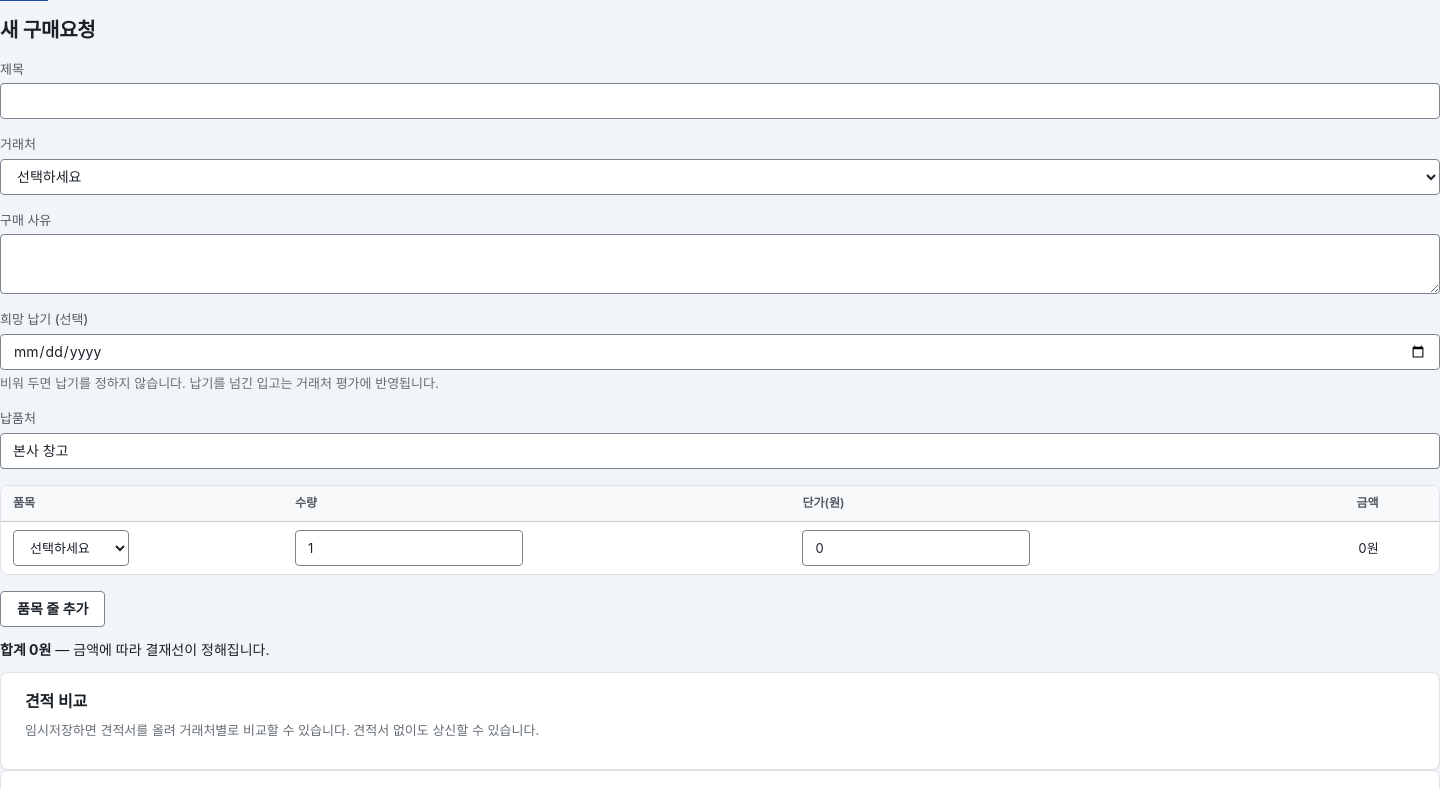
Test: 구매요청 작성 화면의 결재선 미리보기 연동(AC-60·62) › 결재선을 만들 수 있으면 '저장 후 상신' 이 켜진다
Select "볼트 (BOLT)" in the dropdown named "1번째 줄 품목" at (71, 548), box [13,530,129,566]
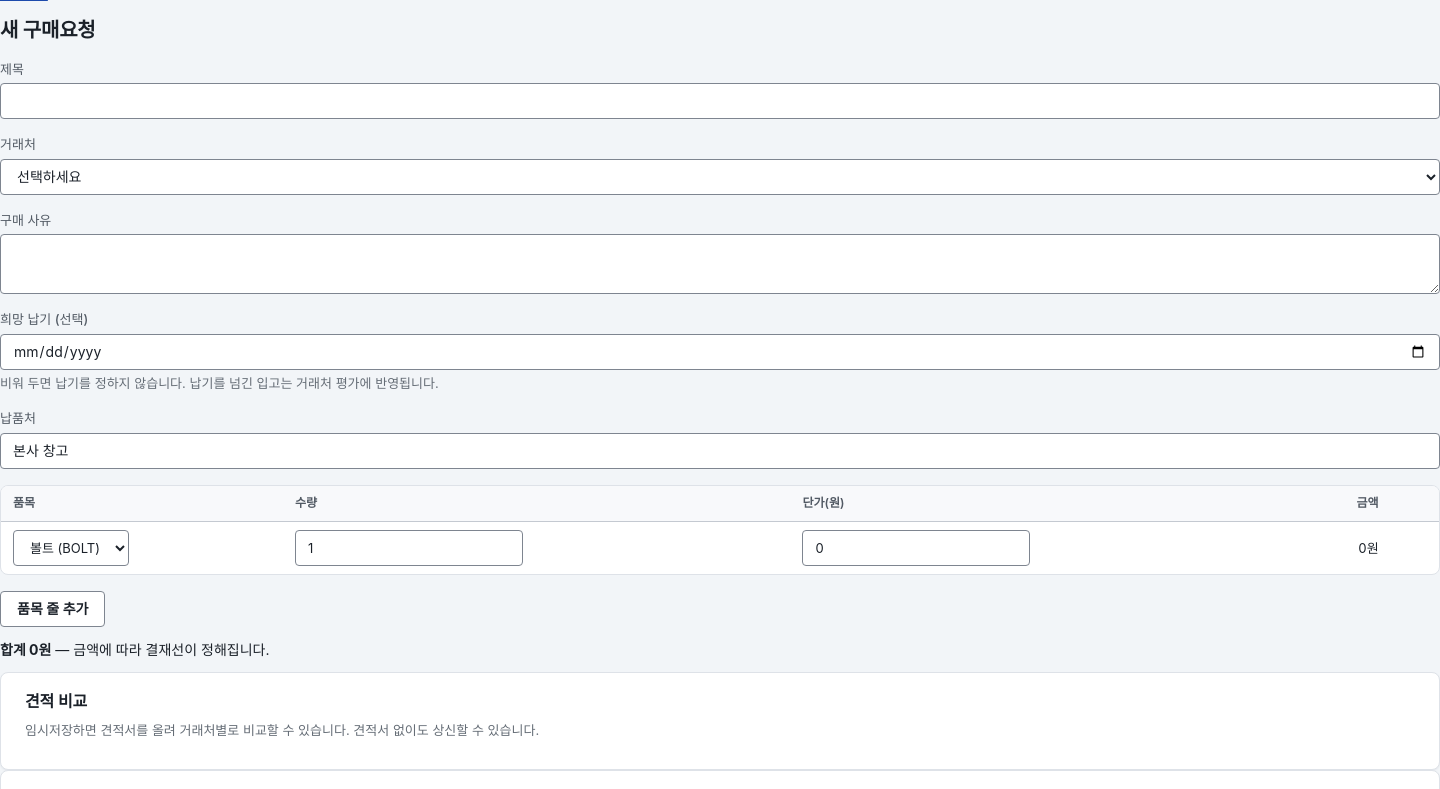
Replace the text in the field named "1번째 줄 단가" with "500000" at (916, 548), box [802,530,1030,566]
(page scrolled)
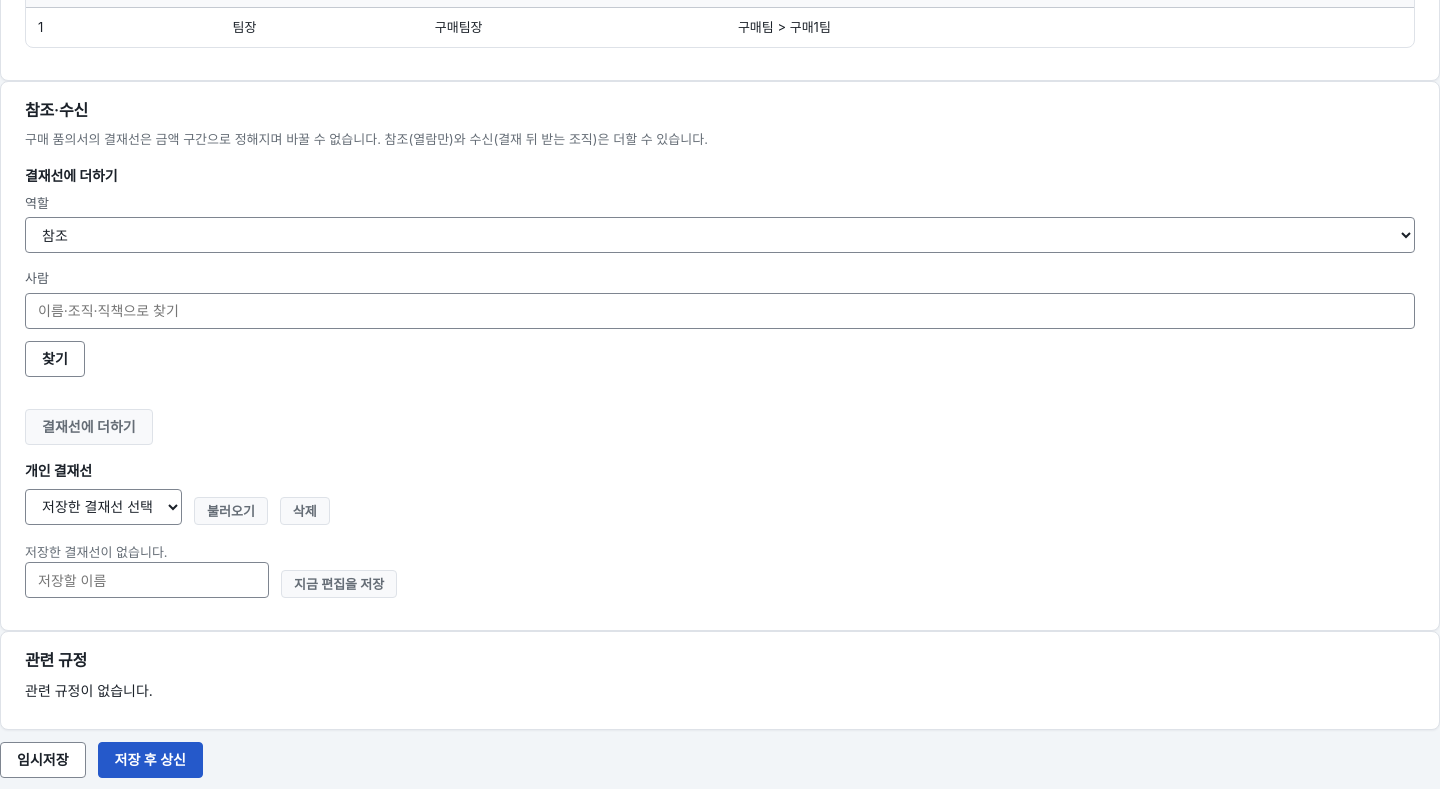
Check: the button "저장 후 상신" is enabled, box [98,742,203,778]
Check: the row "1 팀장 구매팀장 구매팀 > 구매1팀" is shown, box [26,7,1414,47]
